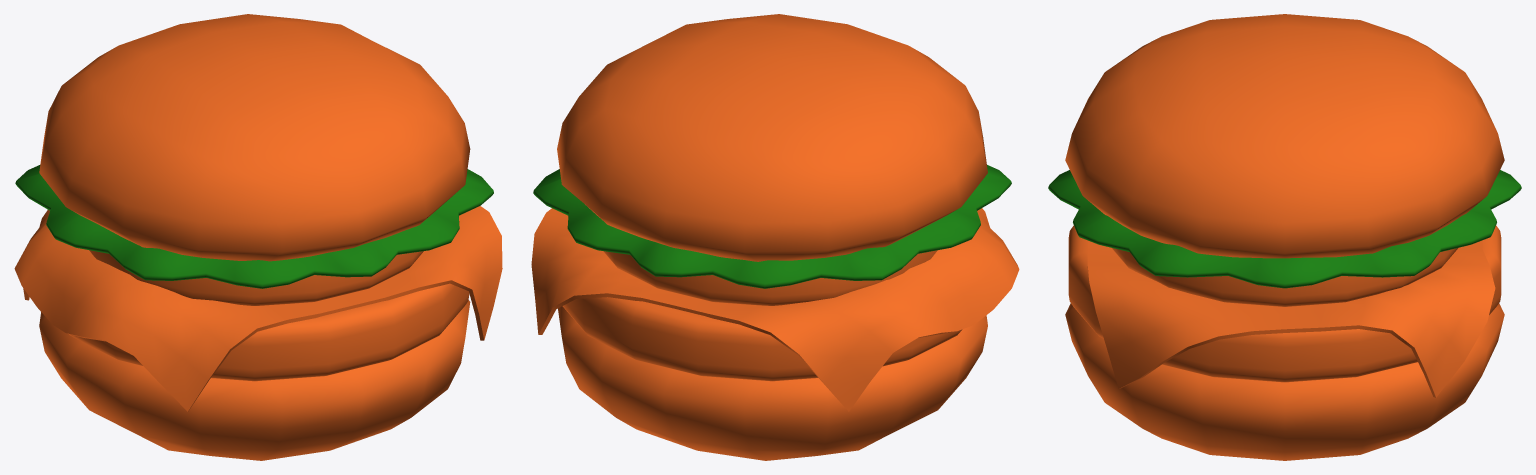
The model's file is HamburgerLvl3.FBX.
3 renders of one model, left to right at view 1: azimuth 30°, elevation 25°; view 2: azimuth 150°, elevation 25°; view 3: azimuth 270°, elevation 25°, orthographic.
Parts seen in each view (by area): view 1: Hamburger; view 2: Hamburger; view 3: Hamburger.
Part boxes in pixels (x1,y1,x2,y2): Hamburger: [14, 14, 502, 460]; Hamburger: [531, 14, 1019, 460]; Hamburger: [1048, 14, 1521, 460].
Bounding box in the file's own units: 167 × 141 × 166.
